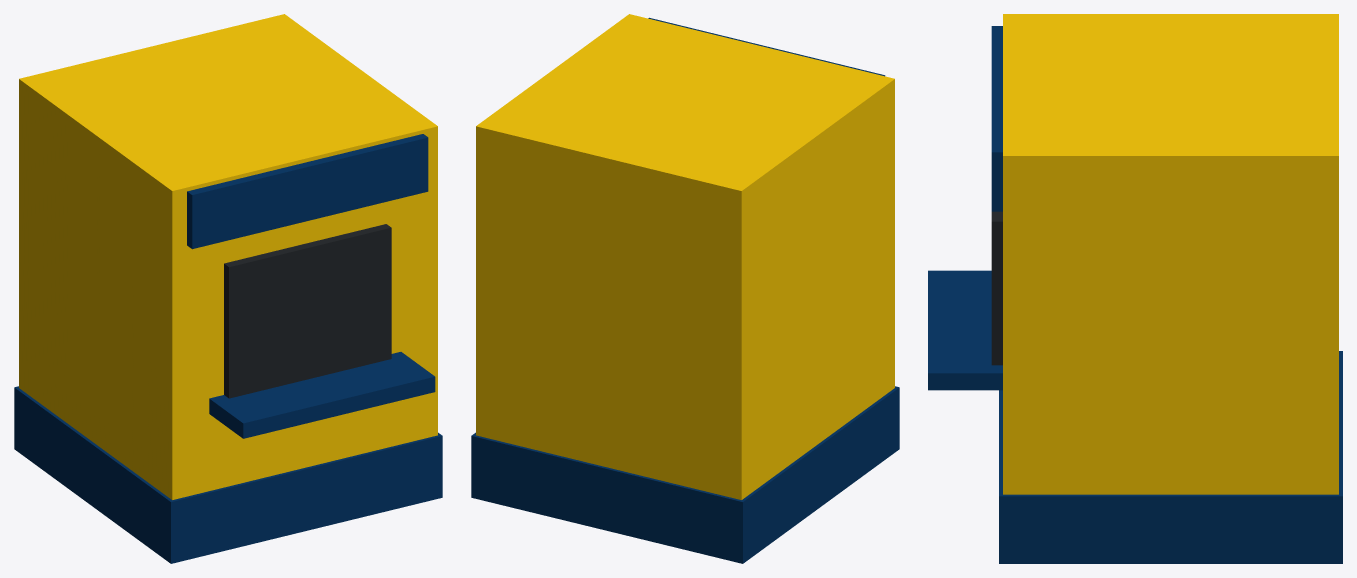
File: momo_kiosk.glb
3 views of the same model, side by side, from view 1: azimuth 30°, elevation 25°; view 2: azimuth 150°, elevation 25°; view 3: azimuth 270°, elevation 25° (orthographic). The views are drawn at different scales.
Visible parts, largest first — view 1: MoMoKiosk; view 2: MoMoKiosk; view 3: MoMoKiosk.
Boxes of the visible parts, <box> form: MoMoKiosk: <box>14,14,442,563</box>; MoMoKiosk: <box>471,14,899,563</box>; MoMoKiosk: <box>928,14,1342,563</box>.
Size of the model in its own units: 1.84 by 2.4 by 2.22.
